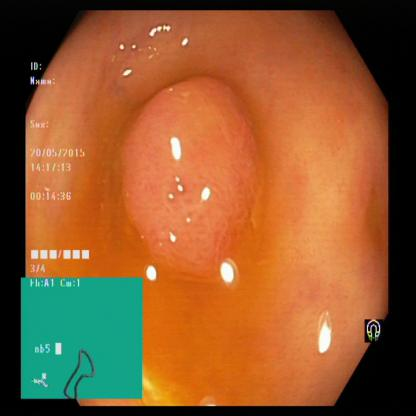Labels: (28, 57, 95, 278), (23, 280, 145, 397), (357, 312, 389, 350)
Polyps: (119, 85, 260, 265)
